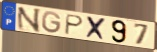7: (133, 23, 151, 47)
9: (110, 19, 129, 44)
G: (41, 11, 63, 35)
N: (16, 6, 43, 33)
P: (63, 13, 85, 36)
X: (85, 15, 108, 42)
